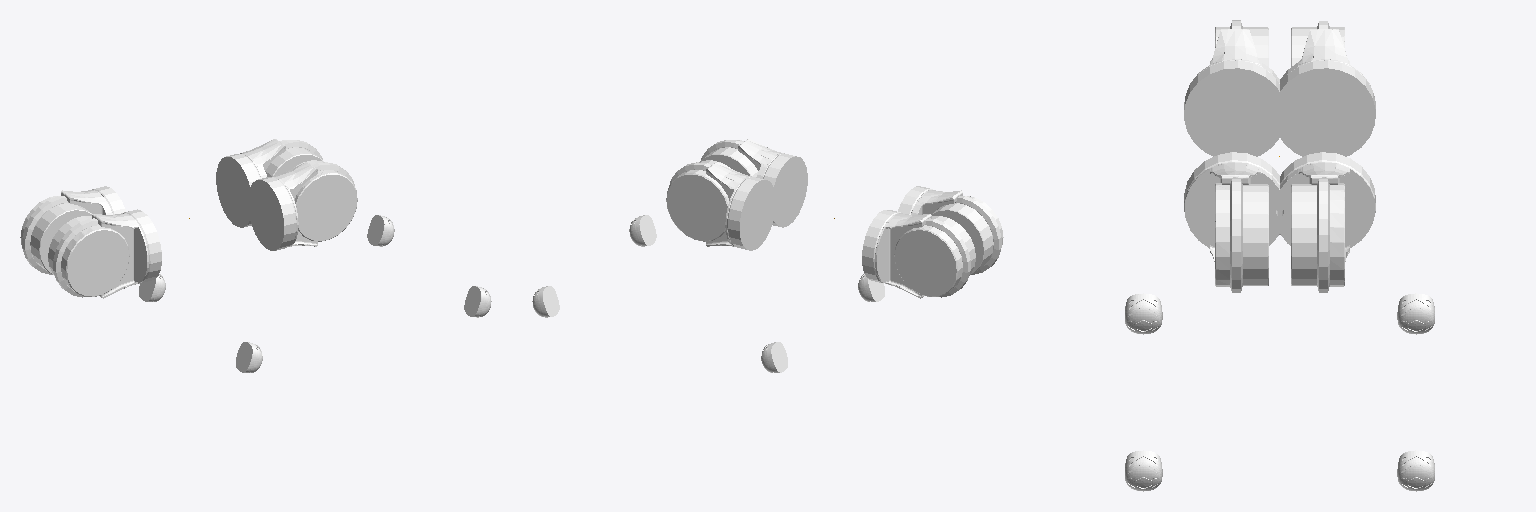
--- Facts derived from the render (not from the file) ---
3 views of the same robot in one strip: view 1: azimuth 30°, elevation 25°; view 2: azimuth 150°, elevation 25°; view 3: azimuth 270°, elevation 25° (orthographic).
Robot: go2_description — 30 links, 29 joints (12 revolute, 17 fixed); root link base; default pose: joints at zero except 4 at the middle of their limits (FL_calf_joint = -1.78, FR_calf_joint = -1.78, RL_calf_joint = -1.78, RR_calf_joint = -1.78).
Visible links, largest first — view 1: RR_hip, FR_hip, FL_hip, RL_hip, FL_foot, FR_foot, RR_foot, RL_foot; view 2: RL_hip, FL_hip, FR_hip, RR_hip, FR_foot, FL_foot, RL_foot, RR_foot; view 3: FL_hip, FR_hip, RL_hip, RR_hip, FL_foot, RL_foot, FR_foot, RR_foot.
Boxes of the visible links, x1,y1,x2,y2 form: RR_hip: [48, 209, 161, 298]; FR_hip: [248, 160, 357, 250]; FL_hip: [216, 139, 323, 227]; RL_hip: [20, 186, 125, 274]; FL_foot: [367, 215, 394, 246]; FR_foot: [464, 286, 491, 317]; RR_foot: [236, 342, 262, 372]; RL_foot: [139, 274, 165, 301]; RL_hip: [862, 210, 975, 298]; FL_hip: [666, 160, 775, 250]; FR_hip: [700, 139, 807, 227]; RR_hip: [898, 186, 1003, 274]; FR_foot: [629, 215, 656, 246]; FL_foot: [532, 286, 559, 317]; RL_foot: [761, 342, 787, 372]; RR_foot: [858, 274, 884, 301]; FL_hip: [1269, 152, 1375, 292]; FR_hip: [1184, 152, 1290, 292]; RL_hip: [1273, 21, 1375, 156]; RR_hip: [1184, 20, 1285, 156]; FL_foot: [1397, 450, 1434, 491]; RL_foot: [1397, 293, 1434, 334]; FR_foot: [1125, 450, 1162, 491]; RR_foot: [1125, 293, 1162, 334].
Bounding box of the posed robot: 0.6776 × 0.3236 × 0.2575 m (x, y, z).
Meshes: 7 distinct files referenced, 8 mesh visuals loaded (2 Collada DAE); not drawn: 9 (reference not matched to a file when rendering).

URDF robot description (go2_description):
<?xml version="1.0" encoding="utf-8"?>
<!-- This URDF was automatically created by SolidWorks to URDF Exporter! Originally created by
<<<<<<< HEAD
Stephen Brawner ([email redacted]) 
=======
Stephen Brawner ([email redacted])
>>>>>>> upstream/main
     Commit Version: 1.6.0-4-g7f85cfe  Build Version: 1.6.7995.38578
     For more information, please see http://wiki.ros.org/sw_urdf_exporter -->
<robot name="go2_description">
  <link name="base">
    <visual>
      <origin rpy="0 0 0" xyz="0 0 0"/>
      <geometry>
        <box size="0.001 0.001 0.001"/>
      </geometry>
    </visual>
  </link>
  <joint name="floating_base" type="fixed">
    <origin rpy="0 0 0" xyz="0 0 0"/>
    <parent link="base"/>
    <child link="trunk"/>
  </joint>

  <link name="trunk">
    <inertial>
      <origin xyz="0.021112 0 -0.005366" rpy="0 0 0" />
      <mass value="6.921" />
      <inertia ixx="0.02448" ixy="0.00012166" ixz="0.0014849" iyy="0.098077" iyz="-3.12E-05" izz="0.107" />
    </inertial>
    <visual>
      <origin xyz="0 0 0" rpy="0 0 0" />
      <geometry>
        <mesh filename="package://go2_description/meshes/base.dae" />
      </geometry>
      <material name="">
        <color rgba="1 1 1 1" />
      </material>
    </visual>
    <collision>
      <origin rpy="0 0 0" xyz="0 0 0" />
      <geometry>
        <box size="0.3762 0.0935 0.114" />
      </geometry>
    </collision>
  </link>
  <link name="Head_upper">
    <inertial>
      <origin xyz="0 0 0" rpy="0 0 0" />
      <mass value="0.001" />
      <inertia ixx="9.6e-06" ixy="0" ixz="0" iyy="9.6e-06" iyz="0" izz="9.6e-06" />
    </inertial>
    <collision>
      <origin xyz="0 0 0" rpy="0 0 0" />
      <geometry>
        <cylinder radius="0.05" length="0.09" />
      </geometry>
    </collision>
  </link>
  <joint name="Head_upper_joint" type="fixed" dont_collapse="true">
    <origin xyz="0.285 0 0.01" rpy="0 0 0" />
    <parent link="trunk" />
    <child link="Head_upper" />
    <axis xyz="0 0 0" />
  </joint>
  <link name="Head_lower">
    <inertial>
      <origin xyz="0 0 0" rpy="0 0 0" />
      <mass value="0.001" />
      <inertia ixx="9.6e-06" ixy="0" ixz="0" iyy="9.6e-06" iyz="0" izz="9.6e-06" />
    </inertial>
    <collision>
      <origin xyz="0 0 0" rpy="0 0 0" />
      <geometry>
        <sphere radius="0.047" />
      </geometry>
    </collision>
  </link>
  <joint name="Head_lower_joint" type="fixed" dont_collapse="true">
    <origin xyz="0.008 0 -0.07" rpy="0 0 0" />
    <parent link="Head_upper" />
    <child link="Head_lower" />
    <axis xyz="0 0 0" />
  </joint>
  <link name="FL_hip">
    <inertial>
      <origin xyz="-0.0054 0.00194 -0.000105" rpy="0 0 0" />
      <mass value="0.678" />
      <inertia ixx="0.00048" ixy="-3.01E-06" ixz="1.11E-06" iyy="0.000884" iyz="-1.42E-06" izz="0.000596" />
    </inertial>
    <visual>
      <origin xyz="0 0 0" rpy="0 0 0" />
      <geometry>
        <mesh filename="package://go2_description/meshes/hip.dae" />
      </geometry>
      <material name="">
        <color rgba="1 1 1 1" />
      </material>
    </visual>
    <collision>
      <origin rpy="1.5707963267948966 0 0" xyz="0 0.08 0" />
      <geometry>
        <cylinder length="0.04" radius="0.046" />
      </geometry>
    </collision>
  </link>
  <joint name="FL_hip_joint" type="revolute">
    <origin xyz="0.1934 0.0465 0" rpy="0 0 0" />
    <parent link="trunk" />
    <child link="FL_hip" />
    <axis xyz="1 0 0" />
    <limit lower="-1.0472" upper="1.0472" effort="23.7" velocity="30.1" />
  </joint>
  <link name="FL_thigh">
    <inertial>
      <origin xyz="-0.00374 -0.0223 -0.0327" rpy="0 0 0" />
      <mass value="1.152" />
      <inertia ixx="0.00584" ixy="8.72E-05" ixz="-0.000289" iyy="0.0058" iyz="0.000808" izz="0.00103" />
    </inertial>
    <visual>
      <origin xyz="0 0 0" rpy="0 0 0" />
      <geometry>
        <mesh filename="package://go2_description/meshes/thigh.dae" />
      </geometry>
      <material name="">
        <color rgba="1 1 1 1" />
      </material>
    </visual>
    <collision>
      <origin rpy="0 1.5707963267948966 0" xyz="0 0 -0.1065" />
      <geometry>
        <box size="0.213 0.0245 0.034" />
      </geometry>
    </collision>
  </link>
  <joint name="FL_thigh_joint" type="revolute">
    <origin xyz="0 0.0955 0" rpy="0 0 0" />
    <parent link="FL_hip" />
    <child link="FL_thigh" />
    <axis xyz="0 1 0" />
    <limit lower="-1.5708" upper="3.4907" effort="23.7" velocity="30.1" />
  </joint>
  <link name="FL_calf">
    <inertial>
      <origin xyz="0.00548 -0.000975 -0.115" rpy="0 0 0" />
      <mass value="0.154" />
      <inertia ixx="0.00108" ixy="3.4E-07" ixz="1.72E-05" iyy="0.0011" iyz="8.28E-06" izz="3.29E-05" />
    </inertial>
    <visual>
      <origin xyz="0 0 0" rpy="0 0 0" />
      <geometry>
        <mesh filename="package://go2_description/meshes/calf.dae" />
      </geometry>
      <material name="">
        <color rgba="1 1 1 1" />
      </material>
    </visual>
    <collision>
      <origin rpy="0 -0.21 0" xyz="0.008 0 -0.06" />
      <geometry>
        <cylinder length="0.12" radius="0.012" />
      </geometry>
    </collision>
  </link>
  <joint name="FL_calf_joint" type="revolute">
    <origin xyz="0 0 -0.213" rpy="0 0 0" />
    <parent link="FL_thigh" />
    <child link="FL_calf" />
    <axis xyz="0 1 0" />
    <limit lower="-2.7227" upper="-0.83776" effort="45.43" velocity="15.70" />
  </joint>
  <link name="FL_calflower">
    <collision>
      <origin rpy="0 0 0" xyz="0 0 0" />
      <geometry>
        <cylinder length="0.065" radius="0.011" />
      </geometry>
    </collision>
  </link>
  <joint name="FL_calflower_joint" type="fixed">
    <origin xyz="0.020 0 -0.148" rpy="0 0.05 0" />
    <parent link="FL_calf" />
    <child link="FL_calflower" />
    <axis xyz="0 0 0" />
  </joint>
  <link name="FL_calflower1">
    <collision>
      <origin rpy="0 0 0" xyz="0 0 0" />
      <geometry>
        <cylinder length="0.03" radius="0.0155" />
      </geometry>
    </collision>
  </link>
  <joint name="FL_calflower1_joint" type="fixed">
    <origin xyz="-0.01 0 -0.04" rpy="0 0.48 0" />
    <parent link="FL_calflower" />
    <child link="FL_calflower1" />
    <axis xyz="0 0 0" />
  </joint>
  <link name="FL_foot">
    <inertial>
      <origin xyz="0 0 0" rpy="0 0 0" />
      <mass value="0.04" />
      <inertia ixx="9.6e-06" ixy="0" ixz="0" iyy="9.6e-06" iyz="0" izz="9.6e-06" />
    </inertial>
    <visual>
      <origin xyz="0 0 0" rpy="0 0 0" />
      <geometry>
        <mesh filename="package://go2_description/meshes/foot.dae" />
      </geometry>
      <material name="">
        <color rgba="1 1 1 1" />
      </material>
    </visual>
    <collision>
      <origin rpy="0 0 0" xyz="-0.002 0 0" />
      <geometry>
        <sphere radius="0.022" />
      </geometry>
    </collision>
  </link>
  <joint name="FL_foot_joint" type="fixed" dont_collapse="true">
    <origin xyz="0 0 -0.213" rpy="0 0 0" />
    <parent link="FL_calf" />
    <child link="FL_foot" />
    <axis xyz="0 0 0" />
  </joint>
  <link name="FR_hip">
    <inertial>
      <origin xyz="-0.0054 -0.00194 -0.000105" rpy="0 0 0" />
      <mass value="0.678" />
      <inertia ixx="0.00048" ixy="3.01E-06" ixz="1.11E-06" iyy="0.000884" iyz="1.42E-06" izz="0.000596" />
    </inertial>
    <visual>
      <origin xyz="0 0 0" rpy="3.1415 0 0" />
      <geometry>
        <mesh filename="package://go2_description/meshes/hip.dae" />
      </geometry>
      <material name="">
        <color rgba="1 1 1 1" />
      </material>
    </visual>
    <collision>
      <origin rpy="1.5707963267948966 0 0" xyz="0 -0.08 0" />
      <geometry>
        <cylinder length="0.04" radius="0.046" />
      </geometry>
    </collision>
  </link>
  <joint name="FR_hip_joint" type="revolute">
    <origin xyz="0.1934 -0.0465 0" rpy="0 0 0" />
    <parent link="trunk" />
    <child link="FR_hip" />
    <axis xyz="1 0 0" />
    <limit lower="-1.0472" upper="1.0472" effort="23.7" velocity="30.1" />
  </joint>
  <link name="FR_thigh">
    <inertial>
      <origin xyz="-0.00374 0.0223 -0.0327" rpy="0 0 0" />
      <mass value="1.152" />
      <inertia ixx="0.00584" ixy="-8.72E-05" ixz="-0.000289" iyy="0.0058" iyz="-0.000808" izz="0.00103" />
    </inertial>
    <visual>
      <origin xyz="0 0 0" rpy="0 0 0" />
      <geometry>
        <mesh filename="package://go2_description/meshes/thigh_mirror.dae" />
      </geometry>
      <material name="">
        <color rgba="1 1 1 1" />
      </material>
    </visual>
    <collision>
      <origin rpy="0 1.5707963267948966 0" xyz="0 0 -0.1065" />
      <geometry>
        <box size="0.213 0.0245 0.034" />
      </geometry>
    </collision>
  </link>
  <joint name="FR_thigh_joint" type="revolute">
    <origin xyz="0 -0.0955 0" rpy="0 0 0" />
    <parent link="FR_hip" />
    <child link="FR_thigh" />
    <axis xyz="0 1 0" />
    <limit lower="-1.5708" upper="3.4907" effort="23.7" velocity="30.1" />
  </joint>
  <link name="FR_calf">
    <inertial>
      <origin xyz="0.00548 0.000975 -0.115" rpy="0 0 0" />
      <mass value="0.154" />
      <inertia ixx="0.00108" ixy="-3.4E-07" ixz="1.72E-05" iyy="0.0011" iyz="-8.28E-06" izz="3.29E-05" />
    </inertial>
    <visual>
      <origin xyz="0 0 0" rpy="0 0 0" />
      <geometry>
        <mesh filename="package://go2_description/meshes/calf_mirror.dae" />
      </geometry>
      <material name="">
        <color rgba="1 1 1 1" />
      </material>
    </visual>
    <collision>
      <origin rpy="0 -0.2 0" xyz="0.01 0 -0.06" />
      <geometry>
        <cylinder length="0.12" radius="0.013" />
      </geometry>
    </collision>
  </link>
  <joint name="FR_calf_joint" type="revolute">
    <origin xyz="0 0 -0.213" rpy="0 0 0" />
    <parent link="FR_thigh" />
    <child link="FR_calf" />
    <axis xyz="0 1 0" />
    <limit lower="-2.7227" upper="-0.83776" effort="45.43" velocity="15.70" />
  </joint>
  <link name="FR_calflower">
    <collision>
      <origin rpy="0 0 0" xyz="0 0 0" />
      <geometry>
        <cylinder length="0.065" radius="0.011" />
      </geometry>
    </collision>
  </link>
  <joint name="FR_calflower_joint" type="fixed">
    <origin xyz="0.020 0 -0.148" rpy="0 0.05 0" />
    <parent link="FR_calf" />
    <child link="FR_calflower" />
    <axis xyz="0 0 0" />
  </joint>
  <link name="FR_calflower1">
    <collision>
      <origin rpy="0 0 0" xyz="0 0 0" />
      <geometry>
        <cylinder length="0.03" radius="0.0155" />
      </geometry>
    </collision>
  </link>
  <joint name="FR_calflower1_joint" type="fixed">
    <origin xyz="-0.01 0 -0.04" rpy="0 0.48 0" />
    <parent link="FR_calflower" />
    <child link="FR_calflower1" />
    <axis xyz="0 0 0" />
  </joint>
  <link name="FR_foot">
    <inertial>
      <origin xyz="0 0 0" rpy="0 0 0" />
      <mass value="0.04" />
      <inertia ixx="9.6e-06" ixy="0" ixz="0" iyy="9.6e-06" iyz="0" izz="9.6e-06" />
    </inertial>
    <visual>
      <origin xyz="0 0 0" rpy="0 0 0" />
      <geometry>
        <mesh filename="package://go2_description/meshes/foot.dae" />
      </geometry>
      <material name="">
        <color rgba="1 1 1 1" />
      </material>
    </visual>
    <collision>
      <origin rpy="0 0 0" xyz="-0.002 0 0" />
      <geometry>
        <sphere radius="0.022" />
      </geometry>
    </collision>
  </link>
  <joint name="FR_foot_joint" type="fixed" dont_collapse="true">
    <origin xyz="0 0 -0.213" rpy="0 0 0" />
    <parent link="FR_calf" />
    <child link="FR_foot" />
    <axis xyz="0 0 0" />
  </joint>
  <link name="RL_hip">
    <inertial>
      <origin xyz="0.0054 0.00194 -0.000105" rpy="0 0 0" />
      <mass value="0.678" />
      <inertia ixx="0.00048" ixy="3.01E-06" ixz="-1.11E-06" iyy="0.000884" iyz="-1.42E-06" izz="0.000596" />
    </inertial>
    <visual>
      <origin xyz="0 0 0" rpy="0 3.1415 0" />
      <geometry>
        <mesh filename="package://go2_description/meshes/hip.dae" />
      </geometry>
      <material name="">
        <color rgba="1 1 1 1" />
      </material>
    </visual>
    <collision>
      <origin rpy="1.5707963267948966 0 0" xyz="0 0.08 0" />
      <geometry>
        <cylinder length="0.04" radius="0.046" />
      </geometry>
    </collision>
  </link>
  <joint name="RL_hip_joint" type="revolute">
    <origin xyz="-0.1934 0.0465 0" rpy="0 0 0" />
    <parent link="trunk" />
    <child link="RL_hip" />
    <axis xyz="1 0 0" />
    <limit lower="-1.0472" upper="1.0472" effort="23.7" velocity="30.1" />
  </joint>
  <link name="RL_thigh">
    <inertial>
      <origin xyz="-0.00374 -0.0223 -0.0327" rpy="0 0 0" />
      <mass value="1.152" />
      <inertia ixx="0.00584" ixy="8.72E-05" ixz="-0.000289" iyy="0.0058" iyz="0.000808" izz="0.00103" />
    </inertial>
    <visual>
      <origin xyz="0 0 0" rpy="0 0 0" />
      <geometry>
        <mesh filename="package://go2_description/meshes/thigh.dae" />
      </geometry>
      <material name="">
        <color rgba="1 1 1 1" />
      </material>
    </visual>
    <collision>
      <origin rpy="0 1.5707963267948966 0" xyz="0 0 -0.1065" />
      <geometry>
        <box size="0.213 0.0245 0.034" />
      </geometry>
    </collision>
  </link>
  <joint name="RL_thigh_joint" type="revolute">
    <origin xyz="0 0.0955 0" rpy="0 0 0" />
    <parent link="RL_hip" />
    <child link="RL_thigh" />
    <axis xyz="0 1 0" />
    <limit lower="-0.5236" upper="4.5379" effort="23.7" velocity="30.1" />
  </joint>
  <link name="RL_calf">
    <inertial>
      <origin xyz="0.00548 -0.000975 -0.115" rpy="0 0 0" />
      <mass value="0.154" />
      <inertia ixx="0.00108" ixy="3.4E-07" ixz="1.72E-05" iyy="0.0011" iyz="8.28E-06" izz="3.29E-05" />
    </inertial>
    <visual>
      <origin xyz="0 0 0" rpy="0 0 0" />
      <geometry>
        <mesh filename="package://go2_description/meshes/calf.dae" />
      </geometry>
      <material name="">
        <color rgba="1 1 1 1" />
      </material>
    </visual>
    <collision>
      <origin rpy="0 -0.2 0" xyz="0.01 0 -0.06" />
      <geometry>
        <cylinder length="0.12" radius="0.013" />
      </geometry>
    </collision>
  </link>
  <joint name="RL_calf_joint" type="revolute">
    <origin xyz="0 0 -0.213" rpy="0 0 0" />
    <parent link="RL_thigh" />
    <child link="RL_calf" />
    <axis xyz="0 1 0" />
    <limit lower="-2.7227" upper="-0.83776" effort="45.43" velocity="15.70" />
  </joint>
  <link name="RL_calflower">
    <collision>
      <origin rpy="0 0 0" xyz="0 0 0" />
      <geometry>
        <cylinder length="0.065" radius="0.011" />
      </geometry>
    </collision>
  </link>
  <joint name="RL_calflower_joint" type="fixed">
    <origin xyz="0.020 0 -0.148" rpy="0 0.05 0" />
    <parent link="RL_calf" />
    <child link="RL_calflower" />
    <axis xyz="0 0 0" />
  </joint>
  <link name="RL_calflower1">
    <collision>
      <origin rpy="0 0 0" xyz="0 0 0" />
      <geometry>
        <cylinder length="0.03" radius="0.0155" />
      </geometry>
    </collision>
  </link>
  <joint name="RL_calflower1_joint" type="fixed">
    <origin xyz="-0.01 0 -0.04" rpy="0 0.48 0" />
    <parent link="RL_calflower" />
    <child link="RL_calflower1" />
    <axis xyz="0 0 0" />
  </joint>
  <link name="RL_foot">
    <inertial>
      <origin xyz="0 0 0" rpy="0 0 0" />
      <mass value="0.04" />
      <inertia ixx="9.6e-06" ixy="0" ixz="0" iyy="9.6e-06" iyz="0" izz="9.6e-06" />
    </inertial>
    <visual>
      <origin xyz="0 0 0" rpy="0 0 0" />
      <geometry>
        <mesh filename="package://go2_description/meshes/foot.dae" />
      </geometry>
      <material name="">
        <color rgba="1 1 1 1" />
      </material>
    </visual>
    <collision>
      <origin rpy="0 0 0" xyz="-0.002 0 0" />
      <geometry>
        <sphere radius="0.022" />
      </geometry>
    </collision>
  </link>
  <joint name="RL_foot_joint" type="fixed" dont_collapse="true">
    <origin xyz="0 0 -0.213" rpy="0 0 0" />
    <parent link="RL_calf" />
    <child link="RL_foot" />
    <axis xyz="0 0 0" />
  </joint>
  <link name="RR_hip">
    <inertial>
      <origin xyz="0.0054 -0.00194 -0.000105" rpy="0 0 0" />
      <mass value="0.678" />
      <inertia ixx="0.00048" ixy="-3.01E-06" ixz="-1.11E-06" iyy="0.000884" iyz="1.42E-06" izz="0.000596" />
    </inertial>
    <visual>
      <origin xyz="0 0 0" rpy="3.1415 3.1415 0" />
      <geometry>
        <mesh filename="package://go2_description/meshes/hip.dae" />
      </geometry>
      <material name="">
        <color rgba="1 1 1 1" />
      </material>
    </visual>
    <collision>
      <origin rpy="1.5707963267948966 0 0" xyz="0 -0.08 0" />
      <geometry>
        <cylinder length="0.04" radius="0.046" />
      </geometry>
    </collision>
  </link>
  <joint name="RR_hip_joint" type="revolute">
    <origin xyz="-0.1934 -0.0465 0" rpy="0 0 0" />
    <parent link="trunk" />
    <child link="RR_hip" />
    <axis xyz="1 0 0" />
    <limit lower="-1.0472" upper="1.0472" effort="23.7" velocity="30.1" />
  </joint>
  <link name="RR_thigh">
    <inertial>
      <origin xyz="-0.00374 0.0223 -0.0327" rpy="0 0 0" />
      <mass value="1.152" />
      <inertia ixx="0.00584" ixy="-8.72E-05" ixz="-0.000289" iyy="0.0058" iyz="-0.000808" izz="0.00103" />
    </inertial>
    <visual>
      <origin xyz="0 0 0" rpy="0 0 0" />
      <geometry>
        <mesh filename="package://go2_description/meshes/thigh_mirror.dae" />
      </geometry>
      <material name="">
        <color rgba="1 1 1 1" />
      </material>
    </visual>
    <collision>
      <origin rpy="0 1.5707963267948966 0" xyz="0 0 -0.1065" />
      <geometry>
        <box size="0.213 0.0245 0.034" />
      </geometry>
    </collision>
  </link>
  <joint name="RR_thigh_joint" type="revolute">
    <origin xyz="0 -0.0955 0" rpy="0 0 0" />
    <parent link="RR_hip" />
    <child link="RR_thigh" />
    <axis xyz="0 1 0" />
    <limit lower="-0.5236" upper="4.5379" effort="23.7" velocity="30.1" />
  </joint>
  <link name="RR_calf">
    <inertial>
      <origin xyz="0.00548 0.000975 -0.115" rpy="0 0 0" />
      <mass value="0.154" />
      <inertia ixx="0.00108" ixy="-3.4E-07" ixz="1.72E-05" iyy="0.0011" iyz="-8.28E-06" izz="3.29E-05" />
    </inertial>
    <visual>
      <origin xyz="0 0 0" rpy="0 0 0" />
      <geometry>
        <mesh filename="package://go2_description/meshes/calf_mirror.dae" />
      </geometry>
      <material name="">
        <color rgba="1 1 1 1" />
      </material>
    </visual>
    <collision>
      <origin rpy="0 -0.2 0" xyz="0.01 0 -0.06" />
      <geometry>
        <cylinder length="0.12" radius="0.013" />
      </geometry>
    </collision>
  </link>
  <joint name="RR_calf_joint" type="revolute">
    <origin xyz="0 0 -0.213" rpy="0 0 0" />
    <parent link="RR_thigh" />
    <child link="RR_calf" />
    <axis xyz="0 1 0" />
    <limit lower="-2.7227" upper="-0.83776" effort="45.43" velocity="15.70" />
  </joint>
  <link name="RR_calflower">
    <collision>
      <origin rpy="0 0 0" xyz="0 0 0" />
      <geometry>
        <cylinder length="0.065" radius="0.011" />
      </geometry>
    </collision>
  </link>
  <joint name="RR_calflower_joint" type="fixed">
    <origin xyz="0.020 0 -0.148" rpy="0 0.05 0" />
    <parent link="RR_calf" />
    <child link="RR_calflower" />
    <axis xyz="0 0 0" />
  </joint>
  <link name="RR_calflower1">
    <collision>
      <origin rpy="0 0 0" xyz="0 0 0" />
      <geometry>
        <cylinder length="0.03" radius="0.0155" />
      </geometry>
    </collision>
  </link>
  <joint name="RR_calflower1_joint" type="fixed">
    <origin xyz="-0.01 0 -0.04" rpy="0 0.48 0" />
    <parent link="RR_calflower" />
    <child link="RR_calflower1" />
    <axis xyz="0 0 0" />
  </joint>
  <link name="RR_foot">
    <inertial>
      <origin xyz="0 0 0" rpy="0 0 0" />
      <mass value="0.04" />
      <inertia ixx="9.6e-06" ixy="0" ixz="0" iyy="9.6e-06" iyz="0" izz="9.6e-06" />
    </inertial>
    <visual>
      <origin xyz="0 0 0" rpy="0 0 0" />
      <geometry>
        <mesh filename="package://go2_description/meshes/foot.dae" />
      </geometry>
      <material name="">
        <color rgba="1 1 1 1" />
      </material>
    </visual>
    <collision>
      <origin rpy="0 0 0" xyz="-0.002 0 0" />
      <geometry>
        <sphere radius="0.022" />
      </geometry>
    </collision>
  </link>
  <joint name="RR_foot_joint" type="fixed" dont_collapse="true">
    <origin xyz="0 0 -0.213" rpy="0 0 0" />
    <parent link="RR_calf" />
    <child link="RR_foot" />
    <axis xyz="0 0 0" />
  </joint>
  <link name="imu_link">
    <inertial>
      <origin xyz="0 0 0" rpy="0 0 0" />
      <mass value="0" />
      <inertia ixx="0" ixy="0" ixz="0" iyy="0" iyz="0" izz="0" />
    </inertial>
  </link>
  <joint name="imu_joint" type="fixed">
    <origin xyz="-0.02557 0 0.04232" rpy="0 0 0" />
    <parent link="trunk" />
    <child link="imu_link" />
    <axis xyz="0 0 0" />
  </joint>
  <link name="radar">
    <inertial>
      <origin xyz="0 0 0" rpy="0 0 0" />
      <mass value="0" />
      <inertia ixx="0" ixy="0" ixz="0" iyy="0" iyz="0" izz="0" />
    </inertial>
  </link>
  <joint name="radar_joint" type="fixed">
    <origin xyz="0.28945 0 -0.046825" rpy="0 2.8782 0" />
    <parent link="trunk" />
    <child link="radar" />
    <axis xyz="0 0 0" />
  </joint>

  <transmission name="FL_hip_tran">
    <type>transmission_interface/SimpleTransmission</type>
    <joint name="FL_hip_joint">
      <hardwareInterface>hardware_interface/EffortJointInterface</hardwareInterface>
    </joint>
    <actuator name="FL_hip_motor">
      <hardwareInterface>hardware_interface/EffortJointInterface</hardwareInterface>
      <mechanicalReduction>1</mechanicalReduction>
    </actuator>
  </transmission>
  <transmission name="FL_thigh_tran">
    <type>transmission_interface/SimpleTransmission</type>
    <joint name="FL_thigh_joint">
      <hardwareInterface>hardware_interface/EffortJointInterface</hardwareInterface>
    </joint>
    <actuator name="FL_thigh_motor">
      <hardwareInterface>hardware_interface/EffortJointInterface</hardwareInterface>
      <mechanicalReduction>1</mechanicalReduction>
    </actuator>
  </transmission>
  <transmission name="FL_calf_tran">
    <type>transmission_interface/SimpleTransmission</type>
    <joint name="FL_calf_joint">
      <hardwareInterface>hardware_interface/EffortJointInterface</hardwareInterface>
    </joint>
    <actuator name="FL_calf_motor">
      <hardwareInterface>hardware_interface/EffortJointInterface</hardwareInterface>
      <mechanicalReduction>1</mechanicalReduction>
    </actuator>
  </transmission>

  <transmission name="FR_hip_tran">
    <type>transmission_interface/SimpleTransmission</type>
    <joint name="FR_hip_joint">
      <hardwareInterface>hardware_interface/EffortJointInterface</hardwareInterface>
    </joint>
    <actuator name="FR_hip_motor">
      <hardwareInterface>hardware_interface/EffortJointInterface</hardwareInterface>
      <mechanicalReduction>1</mechanicalReduction>
    </actuator>
  </transmission>
  <transmission name="FR_thigh_tran">
    <type>transmission_interface/SimpleTransmission</type>
    <joint name="FR_thigh_joint">
      <hardwareInterface>hardware_interface/EffortJointInterface</hardwareInterface>
    </joint>
    <actuator name="FR_thigh_motor">
      <hardwareInterface>hardware_interface/EffortJointInterface</hardwareInterface>
      <mechanicalReduction>1</mechanicalReduction>
    </actuator>
  </transmission>
  <transmission name="FR_calf_tran">
    <type>transmission_interface/SimpleTransmission</type>
    <joint name="FR_calf_joint">
      <hardwareInterface>hardware_interface/EffortJointInterface</hardwareInterface>
    </joint>
    <actuator name="FR_calf_motor">
      <hardwareInterface>hardware_interface/EffortJointInterface</hardwareInterface>
      <mechanicalReduction>1</mechanicalReduction>
    </actuator>
  </transmission>

  <transmission name="RL_hip_tran">
    <type>transmission_interface/SimpleTransmission</type>
    <joint name="RL_hip_joint">
      <hardwareInterface>hardware_interface/EffortJointInterface</hardwareInterface>
    </joint>
    <actuator name="RL_hip_motor">
      <hardwareInterface>hardware_interface/EffortJointInterface</hardwareInterface>
      <mechanicalReduction>1</mechanicalReduction>
    </actuator>
  </transmission>
  <transmission name="RL_thigh_tran">
    <type>transmission_interface/SimpleTransmission</type>
    <joint name="RL_thigh_joint">
      <hardwareInterface>hardware_interface/EffortJointInterface</hardwareInterface>
    </joint>
    <actuator name="RL_thigh_motor">
      <hardwareInterface>hardware_interface/EffortJointInterface</hardwareInterface>
      <mechanicalReduction>1</mechanicalReduction>
    </actuator>
  </transmission>
  <transmission name="RL_calf_tran">
    <type>transmission_interface/SimpleTransmission</type>
    <joint name="RL_calf_joint">
      <hardwareInterface>hardware_interface/EffortJointInterface</hardwareInterface>
    </joint>
    <actuator name="RL_calf_motor">
      <hardwareInterface>hardware_interface/EffortJointInterface</hardwareInterface>
      <mechanicalReduction>1</mechanicalReduction>
    </actuator>
  </transmission>

  <transmission name="RR_hip_tran">
    <type>transmission_interface/SimpleTransmission</type>
    <joint name="RR_hip_joint">
      <hardwareInterface>hardware_interface/EffortJointInterface</hardwareInterface>
    </joint>
    <actuator name="RR_hip_motor">
      <hardwareInterface>hardware_interface/EffortJointInterface</hardwareInterface>
      <mechanicalReduction>1</mechanicalReduction>
    </actuator>
  </transmission>
  <transmission name="RR_thigh_tran">
    <type>transmission_interface/SimpleTransmission</type>
    <joint name="RR_thigh_joint">
      <hardwareInterface>hardware_interface/EffortJointInterface</hardwareInterface>
    </joint>
    <actuator name="RR_thigh_motor">
      <hardwareInterface>hardware_interface/EffortJointInterface</hardwareInterface>
      <mechanicalReduction>1</mechanicalReduction>
    </actuator>
  </transmission>
  <transmission name="RR_calf_tran">
    <type>transmission_interface/SimpleTransmission</type>
    <joint name="RR_calf_joint">
      <hardwareInterface>hardware_interface/EffortJointInterface</hardwareInterface>
    </joint>
    <actuator name="RR_calf_motor">
      <hardwareInterface>hardware_interface/EffortJointInterface</hardwareInterface>
      <mechanicalReduction>1</mechanicalReduction>
    </actuator>
  </transmission>

</robot>
